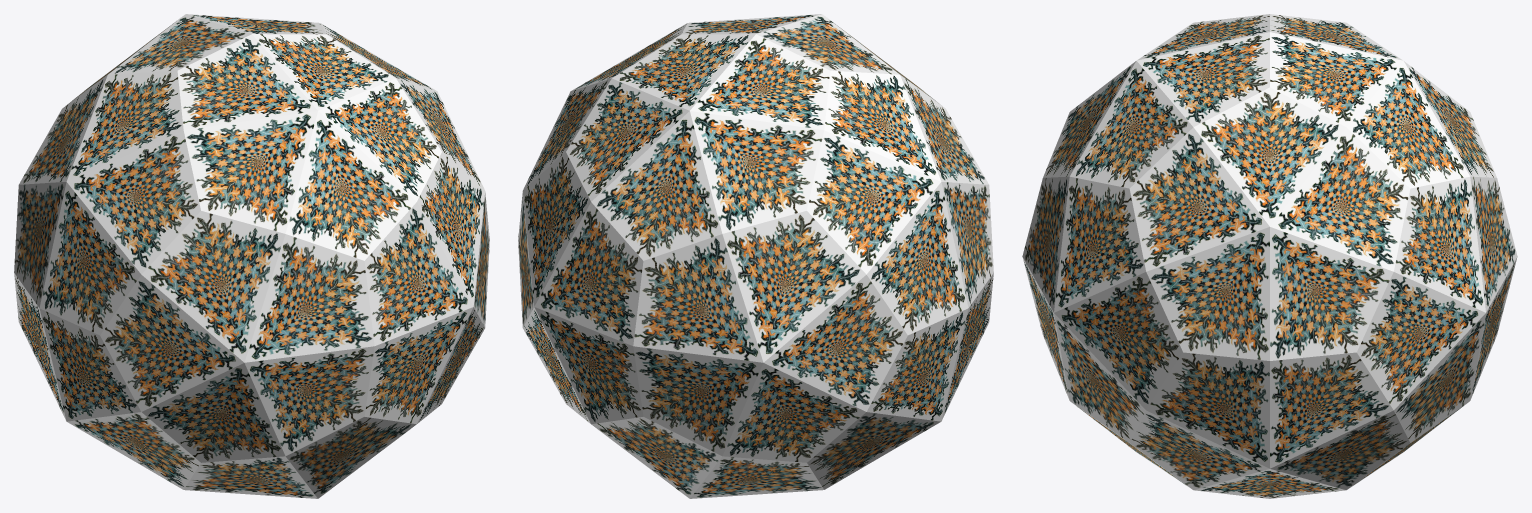
Rendered from _DeltoidalHexecontahedron7.obj.
3 views of the same model, side by side, from view 1: azimuth 30°, elevation 25°; view 2: azimuth 150°, elevation 25°; view 3: azimuth 270°, elevation 25° (orthographic).
Size of the model in its own units: 4.47 by 4.47 by 4.47.
Materials: 1 (1 with a texture image).
